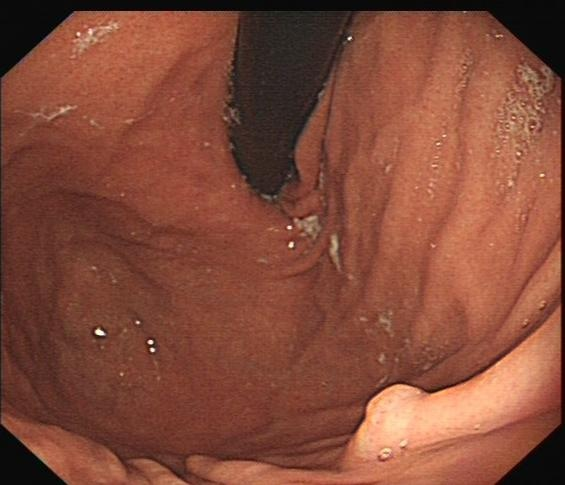Polyp: (350, 380, 428, 451)
